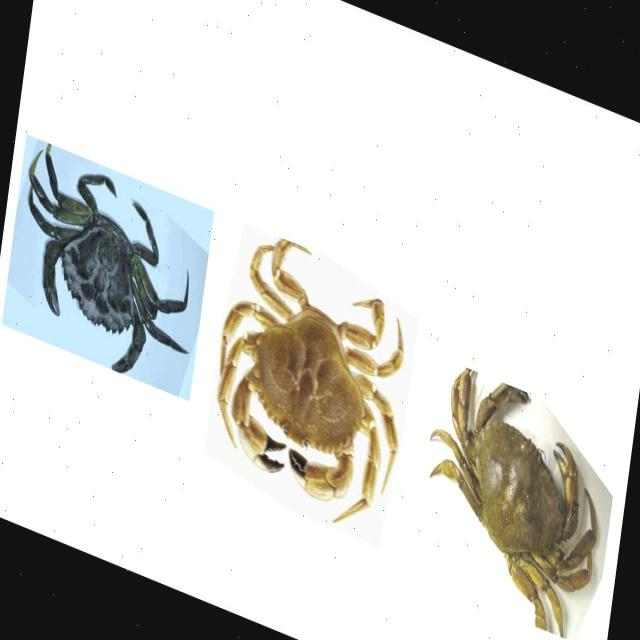egc: (26, 141, 194, 373)
